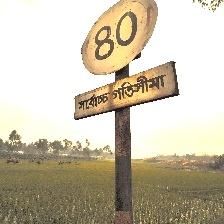Speed-limit: (76, 0, 176, 121)
